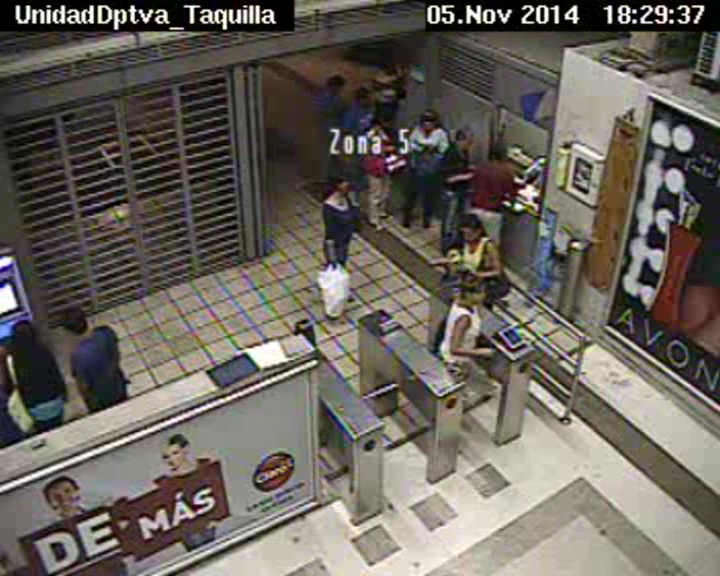person: (456, 269, 485, 303), (8, 319, 38, 351), (455, 211, 484, 244), (59, 305, 90, 334), (328, 169, 351, 195), (417, 107, 440, 132), (373, 102, 395, 127), (453, 125, 475, 149), (487, 139, 508, 162), (351, 84, 372, 106), (325, 73, 345, 95), (379, 55, 398, 75)
